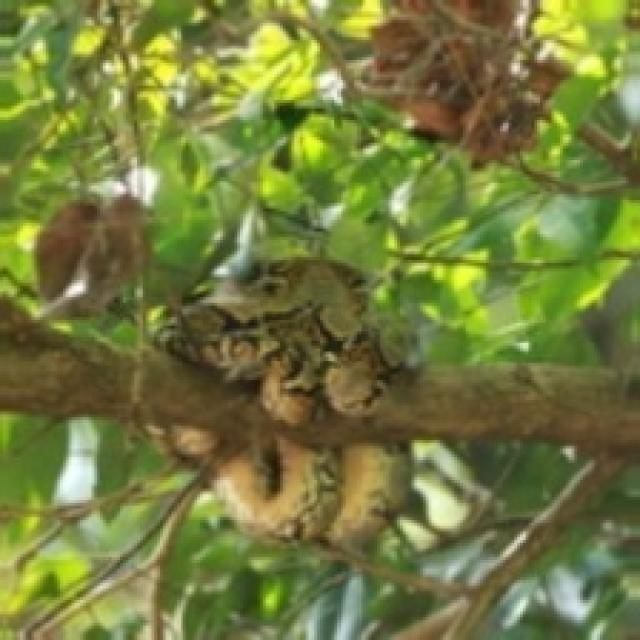reticulated python: (154, 260, 394, 426), (214, 426, 409, 546)
